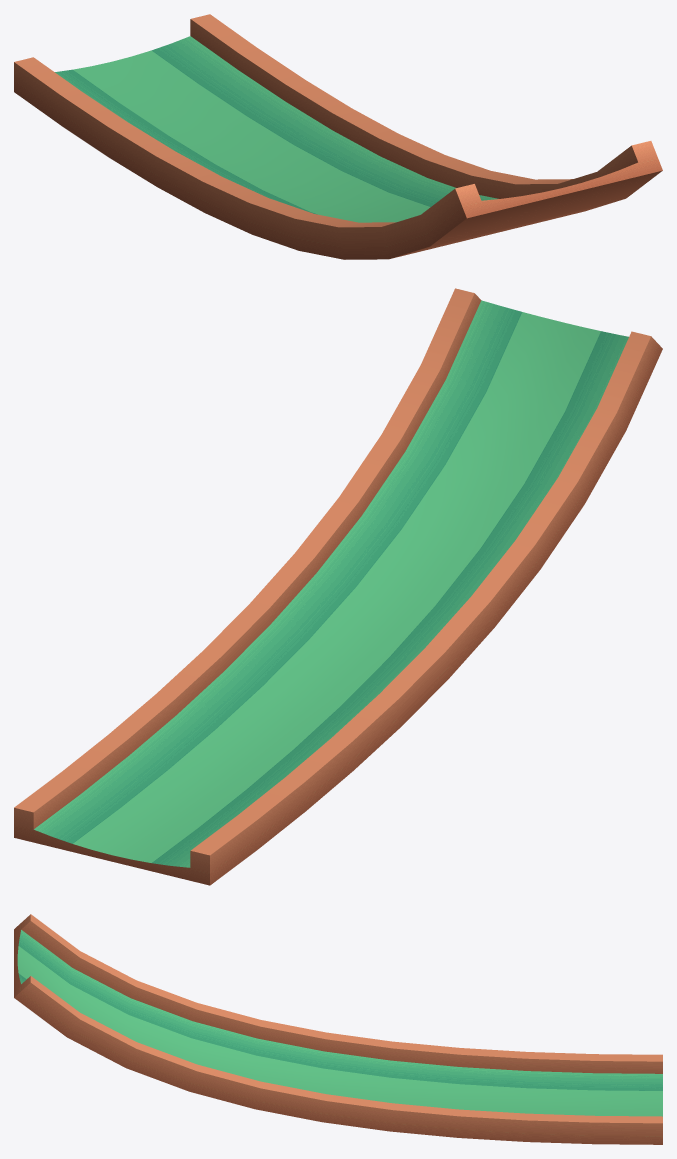
The model's file is spline-concave-straight-hill-beginning.glb.
The picture shows the model from 3 angles, top to bottom: view 1: azimuth 30°, elevation 25°; view 2: azimuth 150°, elevation 25°; view 3: azimuth 270°, elevation 25°; orthographic projection. The views are drawn at different scales.
Visible parts, largest first — view 1: spline-concave-straight-hill-beginning; view 2: spline-concave-straight-hill-beginning; view 3: spline-concave-straight-hill-beginning.
Boxes of the visible parts, bbox=[...] form: spline-concave-straight-hill-beginning: bbox=[14, 14, 662, 259]; spline-concave-straight-hill-beginning: bbox=[14, 288, 662, 885]; spline-concave-straight-hill-beginning: bbox=[14, 914, 662, 1144].
Size of the model in its own units: 0.9999 by 1.1 by 4.
1 material, 1 textured.
